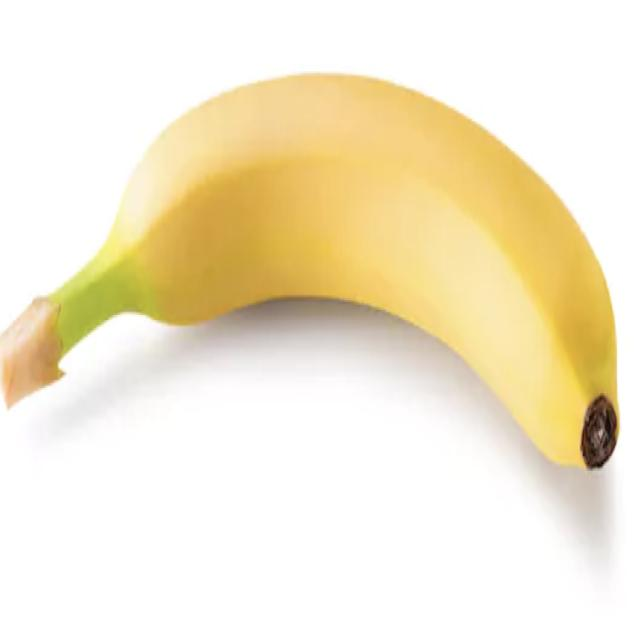fresh-banana: (1, 68, 620, 471)
